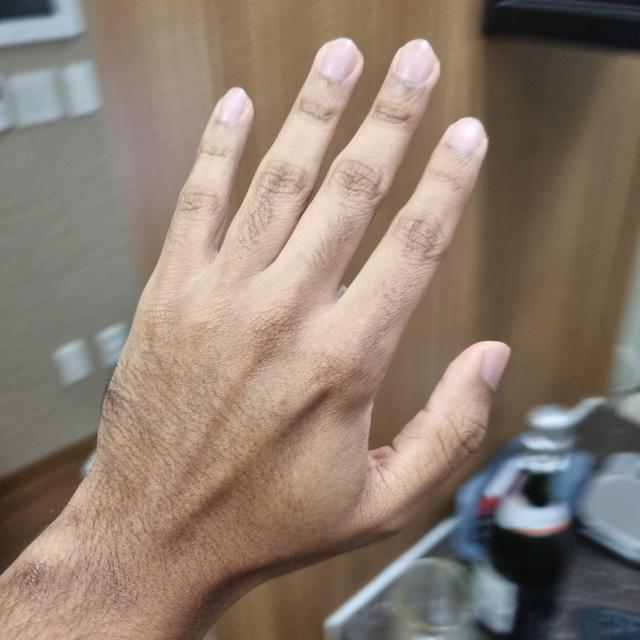Paper: (108, 40, 505, 601)
